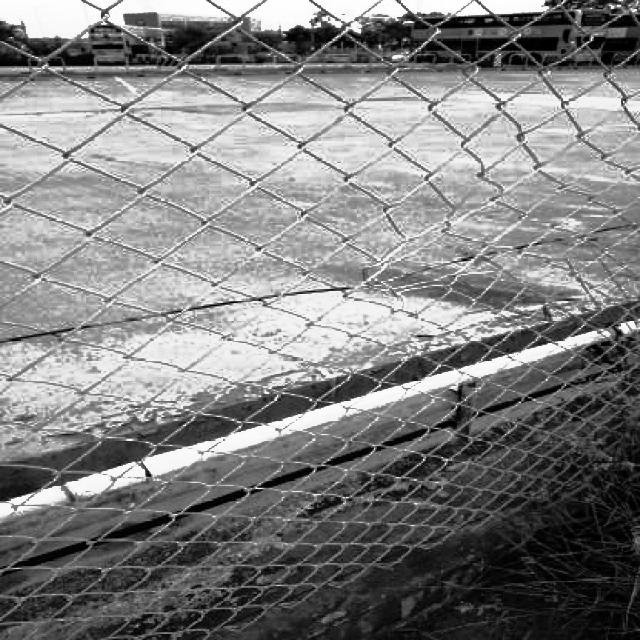anomaly-fence: (367, 207, 518, 336)
